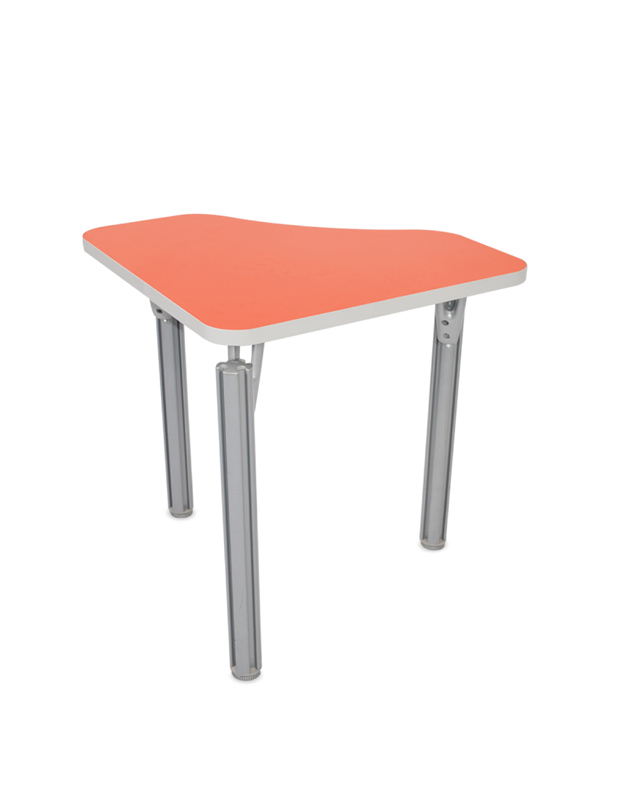m01: (83, 213, 527, 681)
